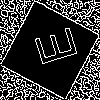E: (25, 25, 78, 70)
